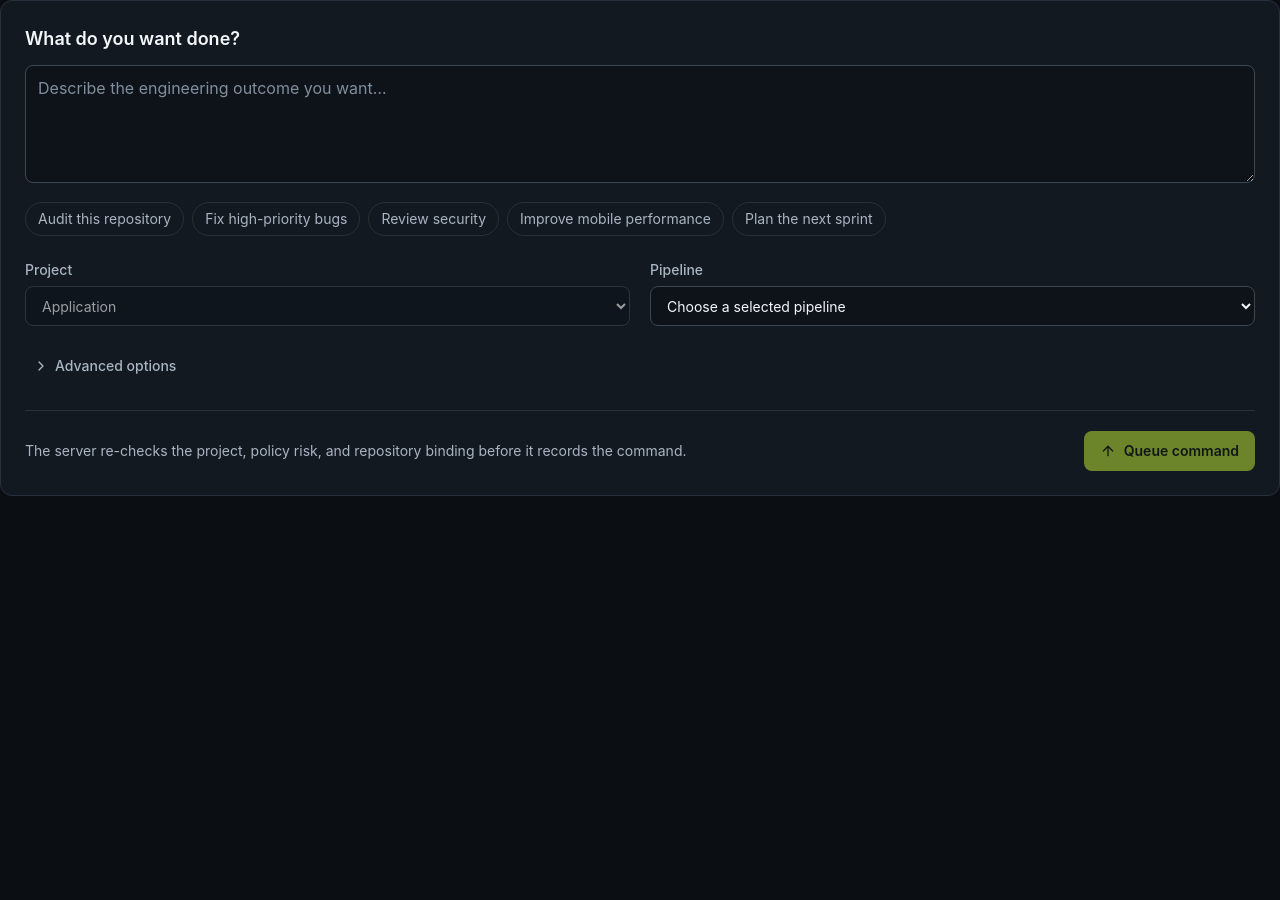
Test case: CommandComposer › treats a changed pipeline as a new idempotent command intent
Select "Security audit" in the dropdown labelled "Pipeline" at (952, 306), box [650,286,1255,326]
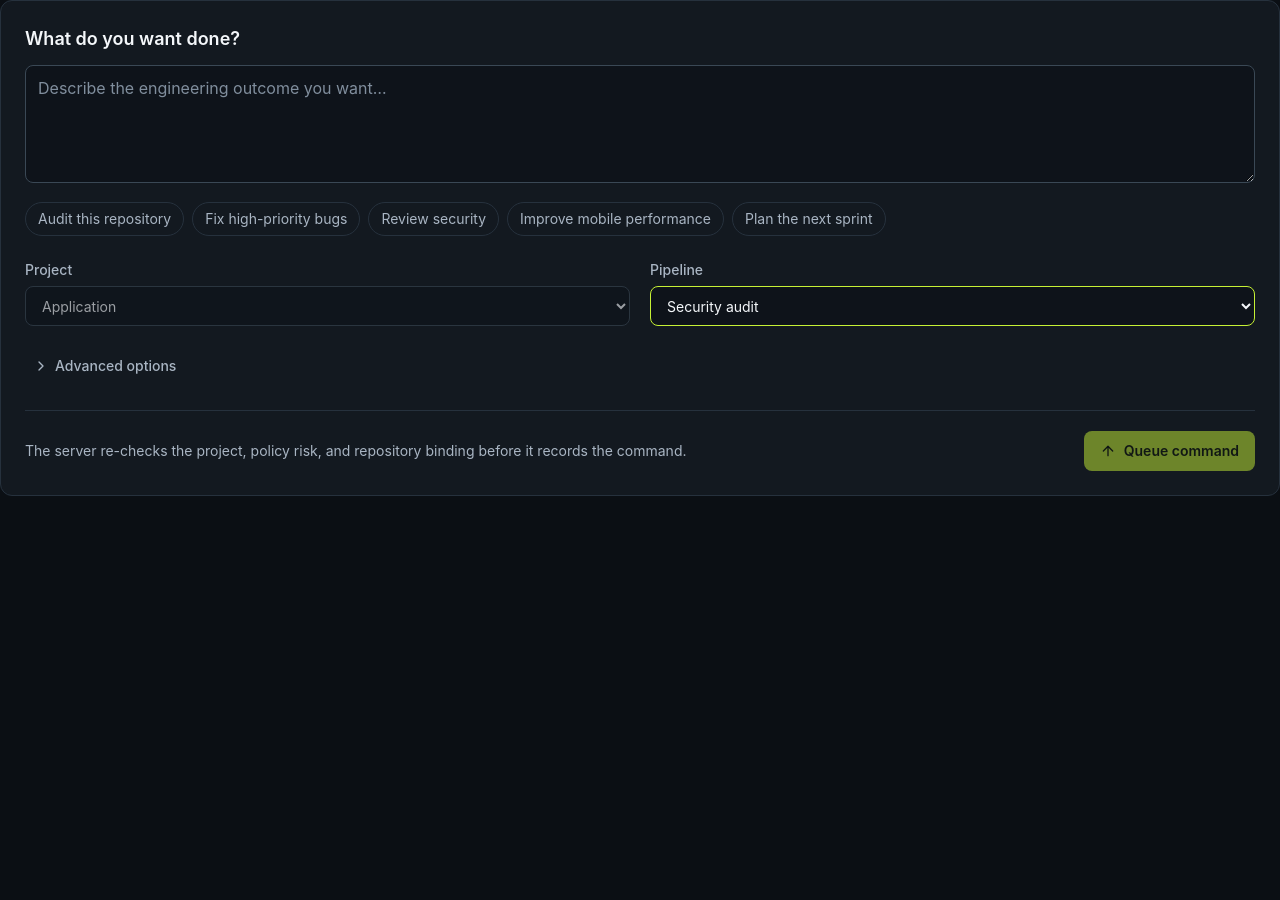
Type "Audit then build" into the text box labelled "What do you want done?".
click(640, 124); type("Audit then build")  # box [25,65,1255,183]
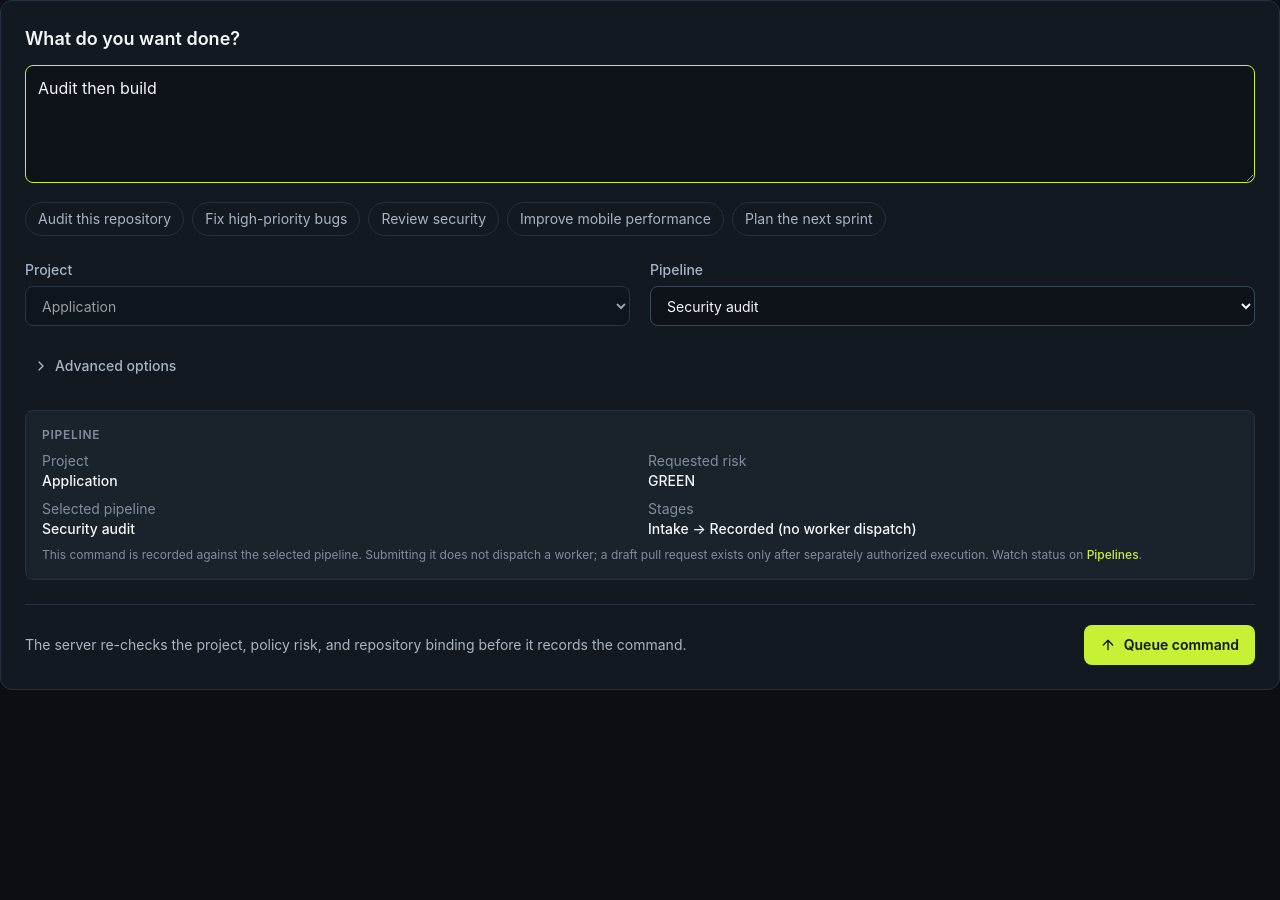
Click the button "Queue command".
click(1169, 645)  # box [1084,625,1255,665]
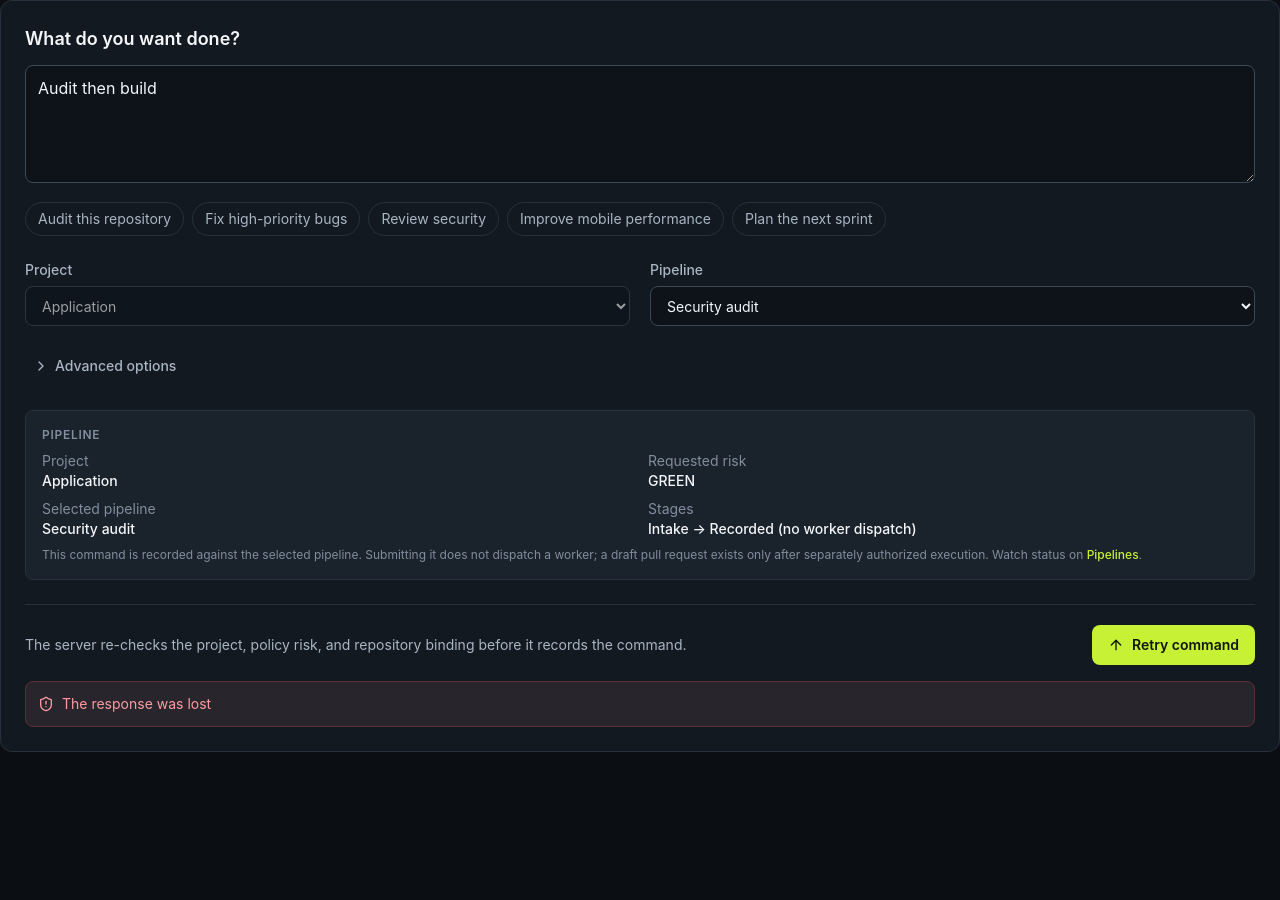
Check: the button "Retry command" is enabled, box [1092,625,1255,665]
Check: the text "The response was lost" is shown, box [62,694,211,714]
Select "Feature build" in the dropdown labelled "Pipeline" at (952, 306), box [650,286,1255,326]
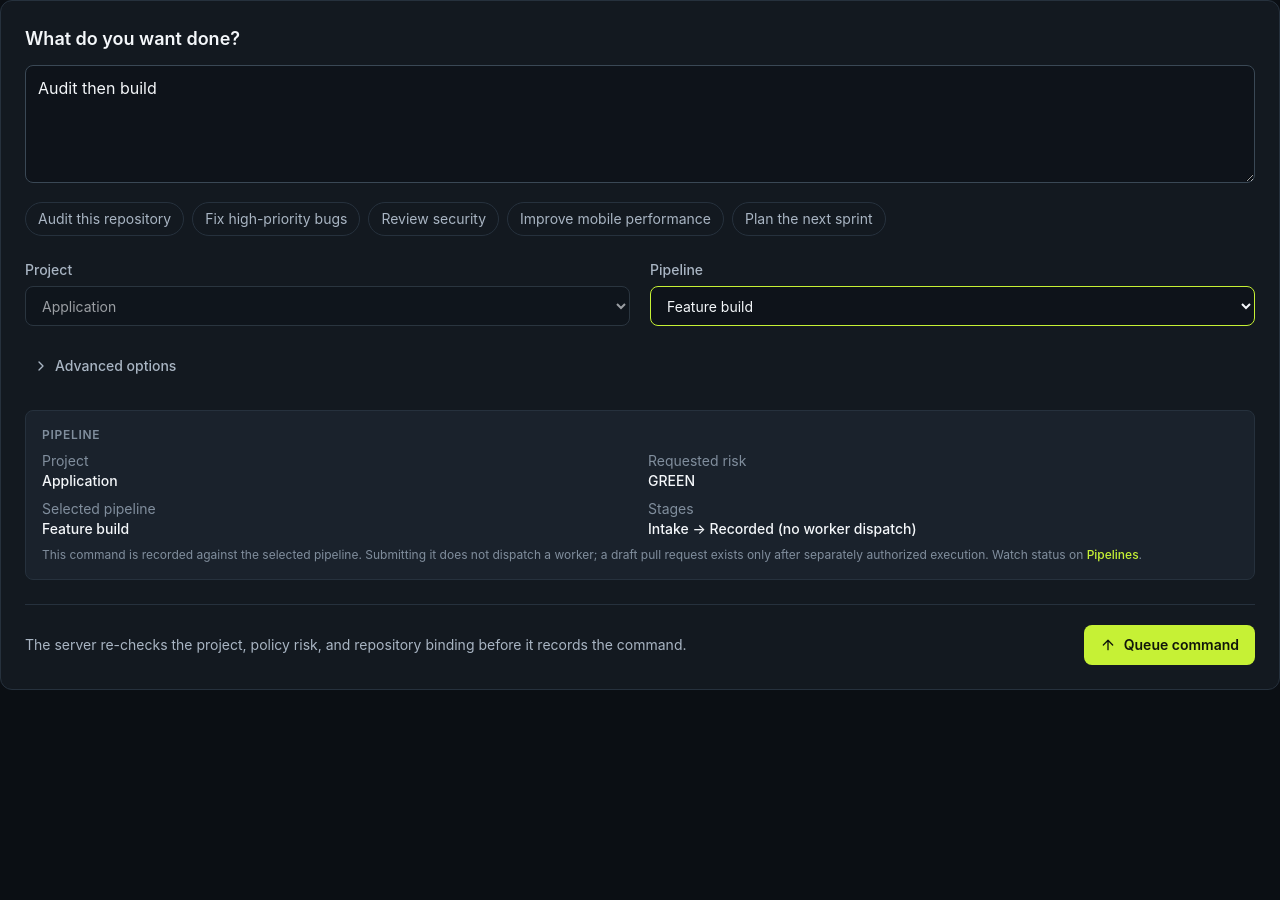
Check: the text "The response was lost" is gone
Click the button "Queue command".
click(1169, 645)  # box [1084,625,1255,665]
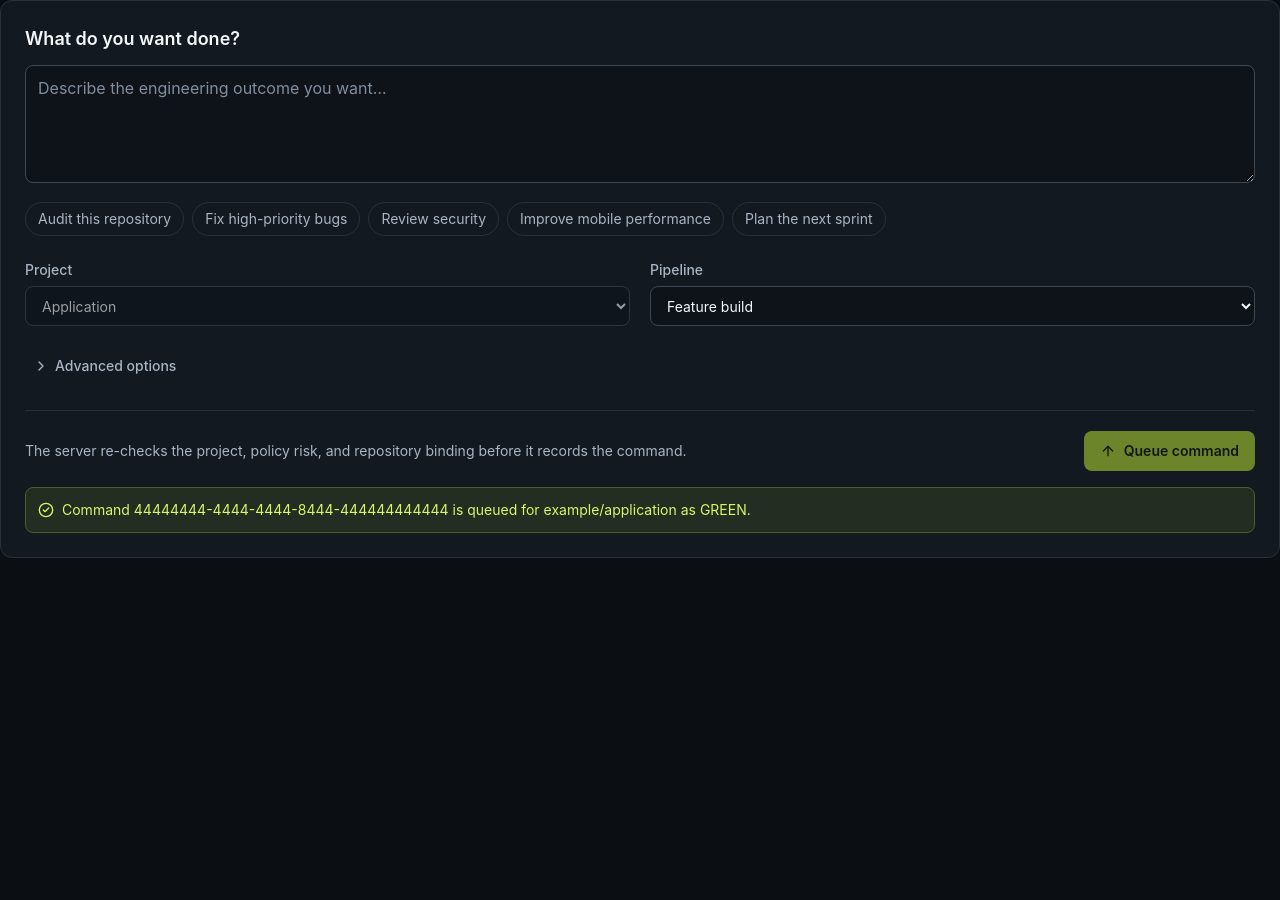
Check: the text "is queued for example/application as GREEN" is shown, box [62,501,751,518]
